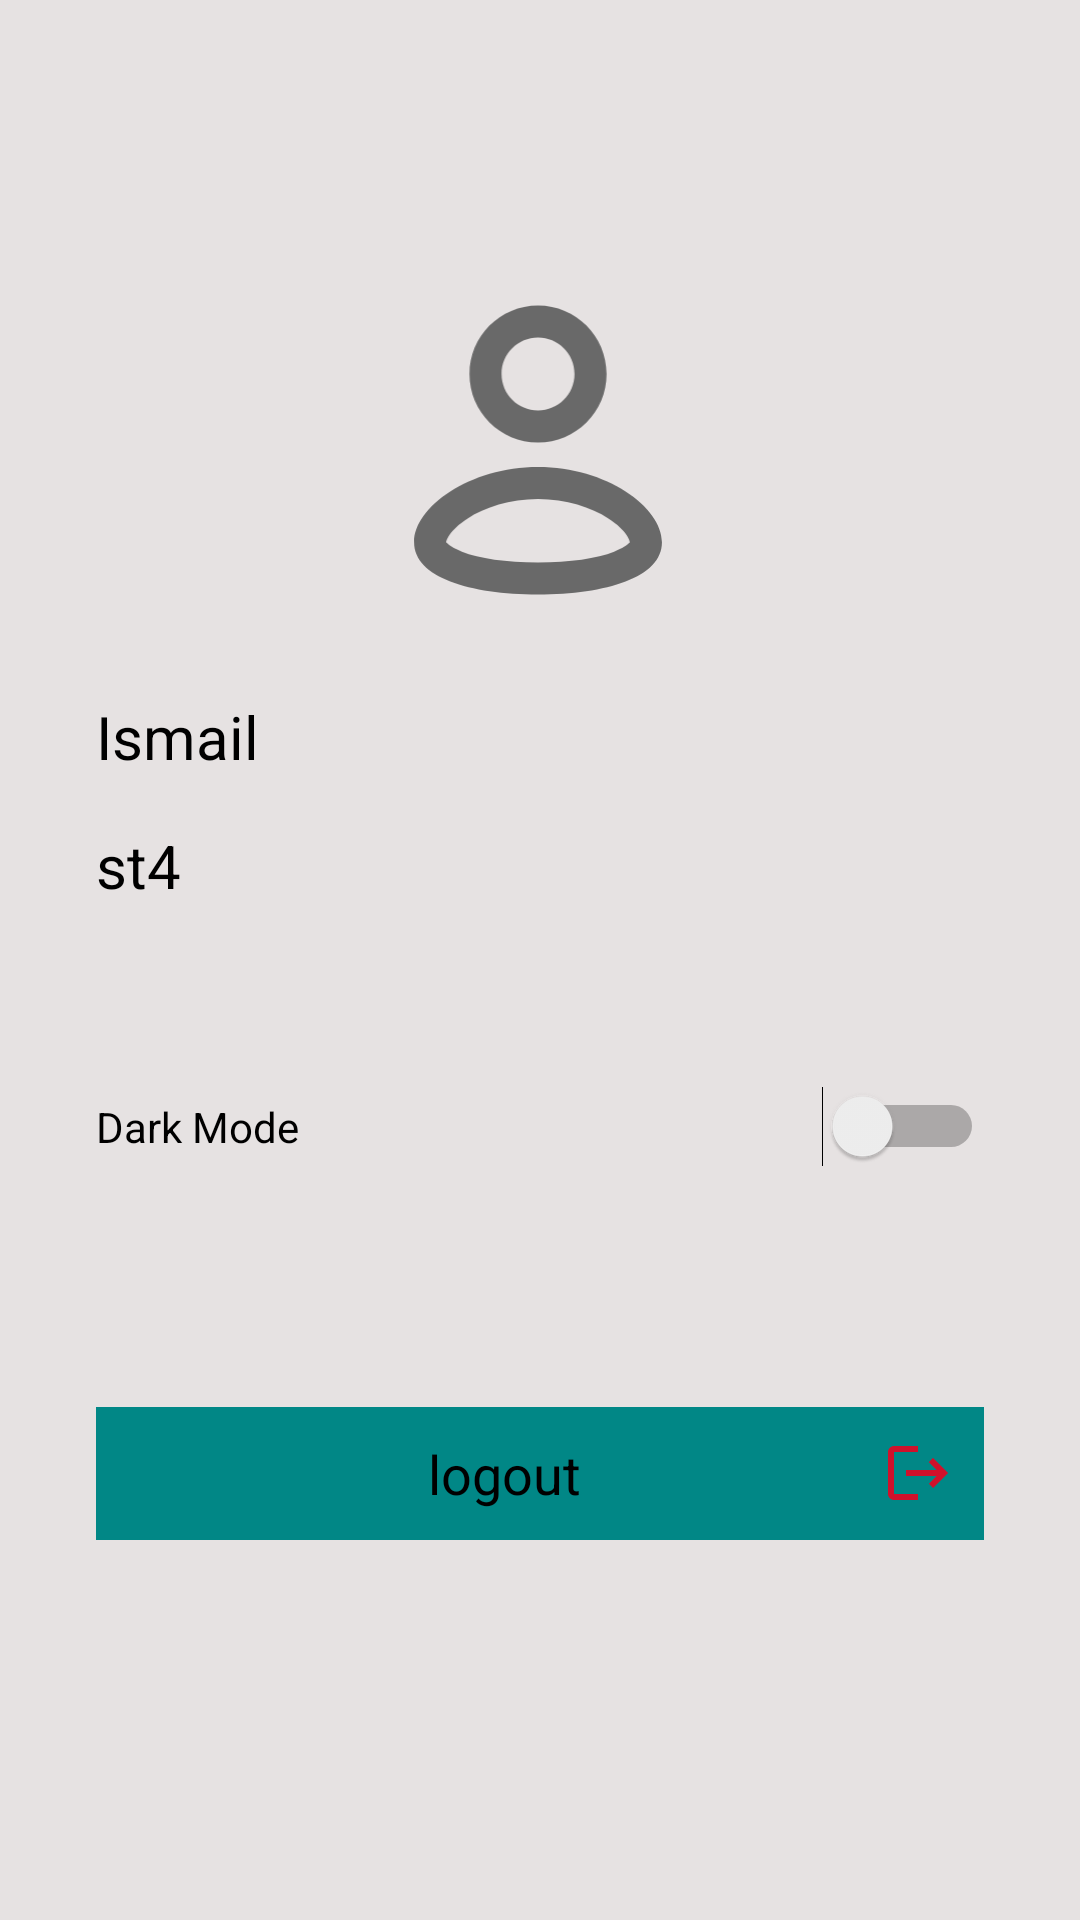

Icon click points for this 1080px×1920px phone screenshot, format [x,y]:
profile: [538,450]
